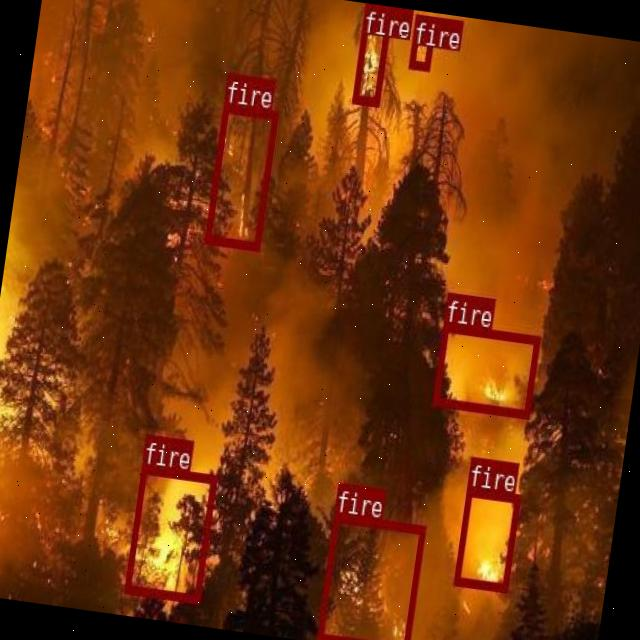fire: (316, 513, 424, 640), (124, 464, 216, 602), (204, 103, 278, 250), (432, 322, 540, 417), (454, 486, 520, 592), (352, 3, 392, 104), (408, 15, 436, 70)
